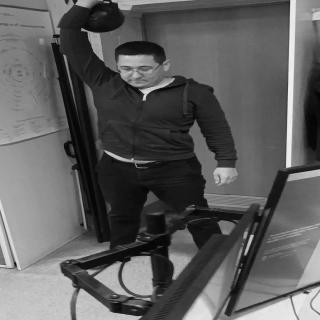kettlebell: (60, 1, 130, 35)
